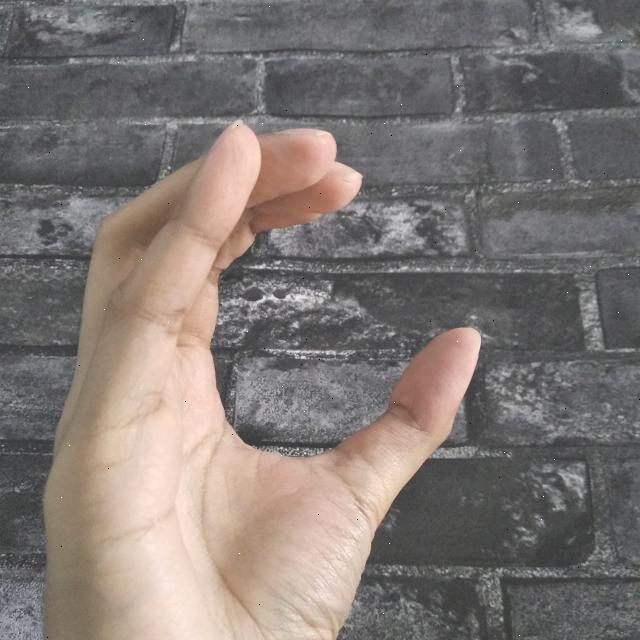C: (36, 117, 489, 640)
